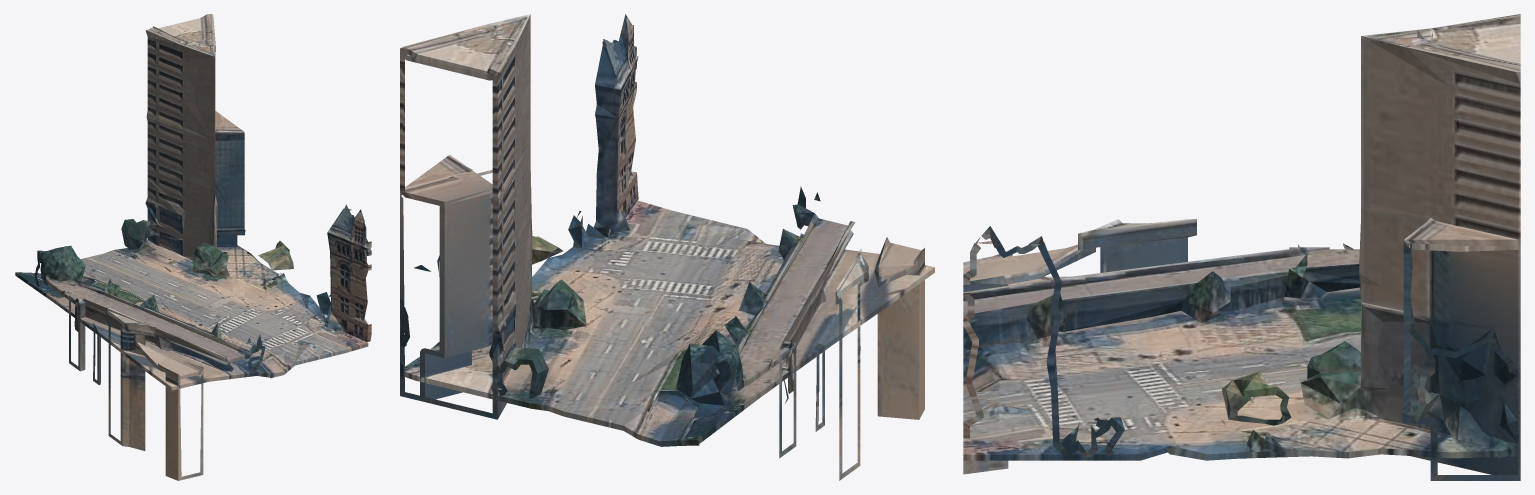
File: chunk_-5_7.glb
3 renders of one model, left to right at view 1: azimuth 30°, elevation 25°; view 2: azimuth 150°, elevation 25°; view 3: azimuth 270°, elevation 25°, orthographic. The views are drawn at different scales.
Parts seen in each view (by area): view 1: hero-chunk; view 2: hero-chunk; view 3: hero-chunk.
Boxes of the visible parts, x1,y1,x2,y2 form: hero-chunk: (15, 14, 371, 480); hero-chunk: (400, 14, 934, 480); hero-chunk: (963, 14, 1520, 480).
Bounding box in the file's own units: 56.65 × 83.42 × 76.33.
Materials: 3 (3 with a texture image).
